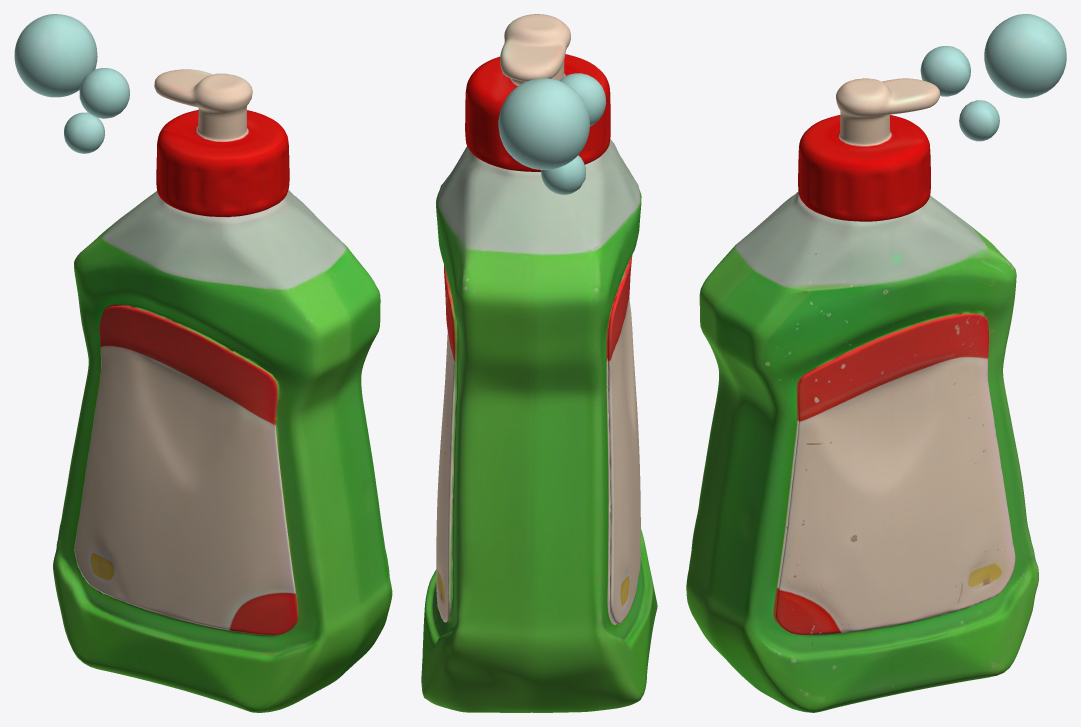
The model's file is item_soap.glb.
3 views of the same model, side by side, from view 1: azimuth 30°, elevation 25°; view 2: azimuth 150°, elevation 25°; view 3: azimuth 270°, elevation 25° (orthographic). The views are drawn at different scales.
Visible parts, largest first — view 1: tripo_node_d78c5768-deca-49a6-8934-256775cc7722; view 2: tripo_node_d78c5768-deca-49a6-8934-256775cc7722; view 3: tripo_node_d78c5768-deca-49a6-8934-256775cc7722.
Part boxes in pixels (box(x1,y1,x2,y2)): tripo_node_d78c5768-deca-49a6-8934-256775cc7722: box(14, 14, 392, 712); tripo_node_d78c5768-deca-49a6-8934-256775cc7722: box(421, 14, 657, 712); tripo_node_d78c5768-deca-49a6-8934-256775cc7722: box(686, 14, 1066, 712).
Bounding box in the file's own units: 0.403 × 0.9797 × 0.5578.
Materials: 1 (1 with a texture image).
